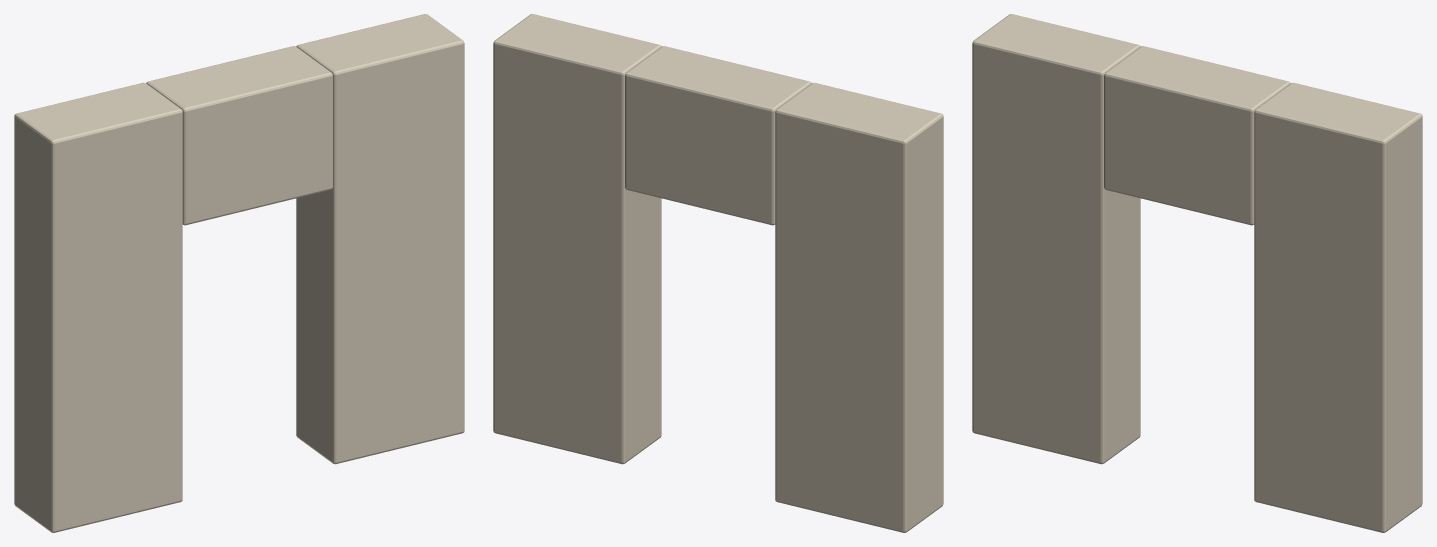
The model's file is greek_house_doorway_LOD1.glb.
3 views of the same model, side by side, from view 1: azimuth 30°, elevation 25°; view 2: azimuth 150°, elevation 25°; view 3: azimuth 330°, elevation 25° (orthographic).
Parts seen in each view (by area): view 1: LOD1_Left, LOD1_Right, LOD1_Lintel; view 2: LOD1_Left, LOD1_Right, LOD1_Lintel; view 3: LOD1_Right, LOD1_Left, LOD1_Lintel.
Boxes of the visible parts, box(x1,y1,x2,y2) form: LOD1_Left: box(14, 82, 182, 532); LOD1_Right: box(296, 14, 464, 464); LOD1_Lintel: box(146, 46, 332, 225); LOD1_Left: box(775, 82, 943, 532); LOD1_Right: box(493, 14, 661, 464); LOD1_Lintel: box(625, 46, 811, 225); LOD1_Right: box(1254, 82, 1422, 532); LOD1_Left: box(972, 14, 1140, 464); LOD1_Lintel: box(1104, 46, 1290, 225).
Size of the model in its own units: 3.8 by 3.45 by 0.62.
